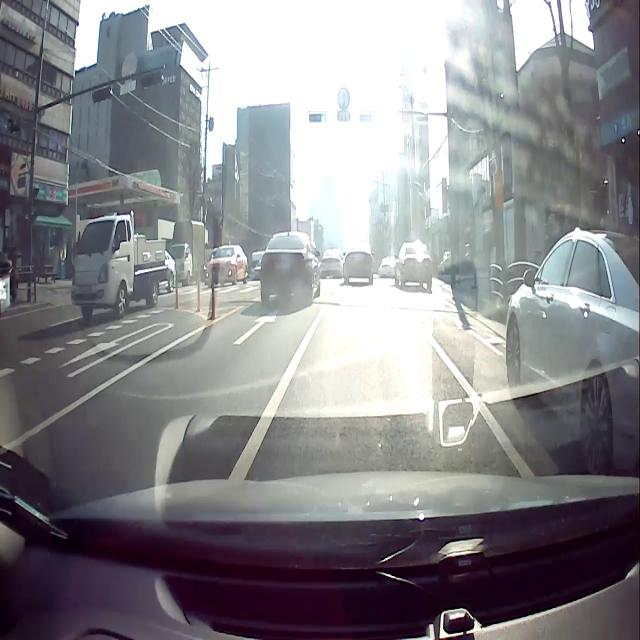Green Light: (320, 112, 327, 124)
